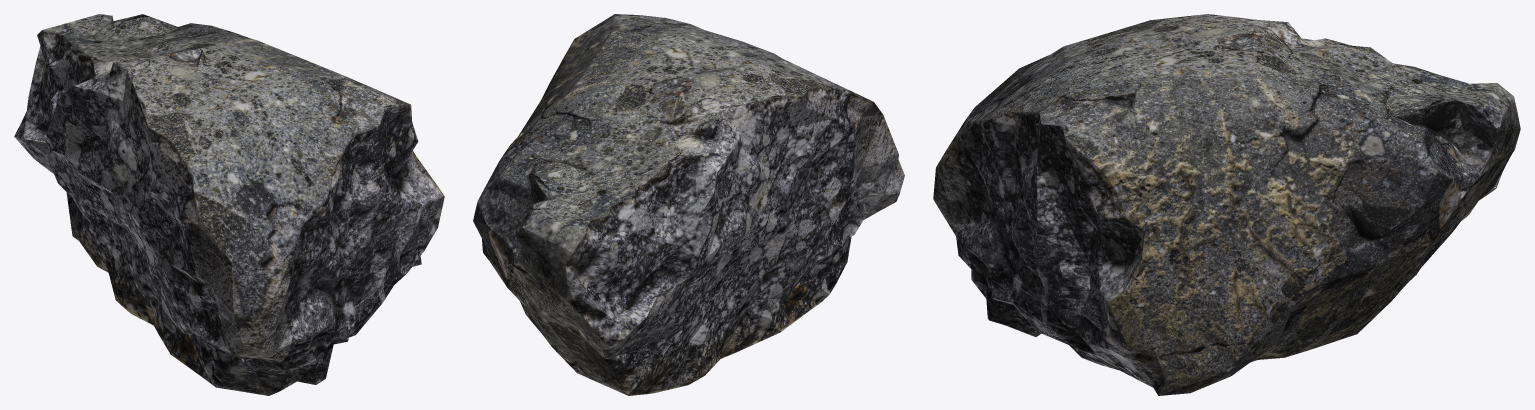
Rendered from MIL090036-35.fbx.
3 views of the same model, side by side, from view 1: azimuth 30°, elevation 25°; view 2: azimuth 150°, elevation 25°; view 3: azimuth 270°, elevation 25° (orthographic). The views are drawn at different scales.
Visible parts, largest first — view 1: MIL090036-35; view 2: MIL090036-35; view 3: MIL090036-35.
Boxes of the visible parts, bbox=[...] form: MIL090036-35: bbox=[14, 14, 444, 395]; MIL090036-35: bbox=[473, 14, 904, 395]; MIL090036-35: bbox=[933, 14, 1520, 395].
Size of the model in its own units: 51.39 by 44.69 by 83.03.
